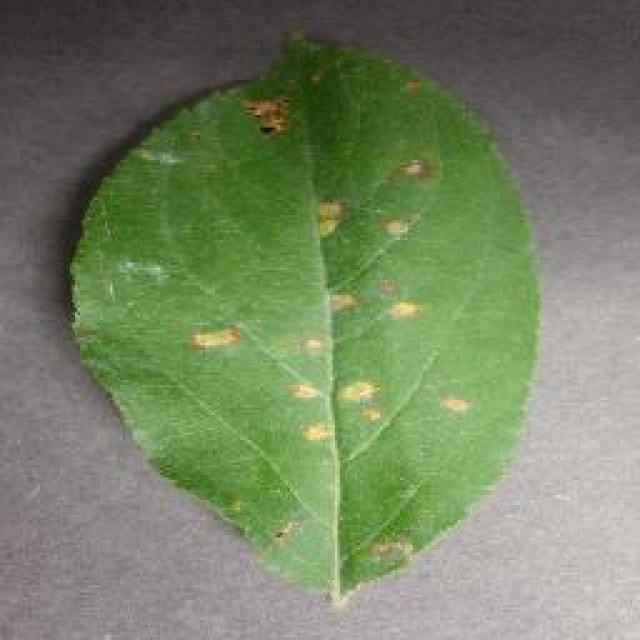apple cedar apple rust: (65, 25, 543, 605)
